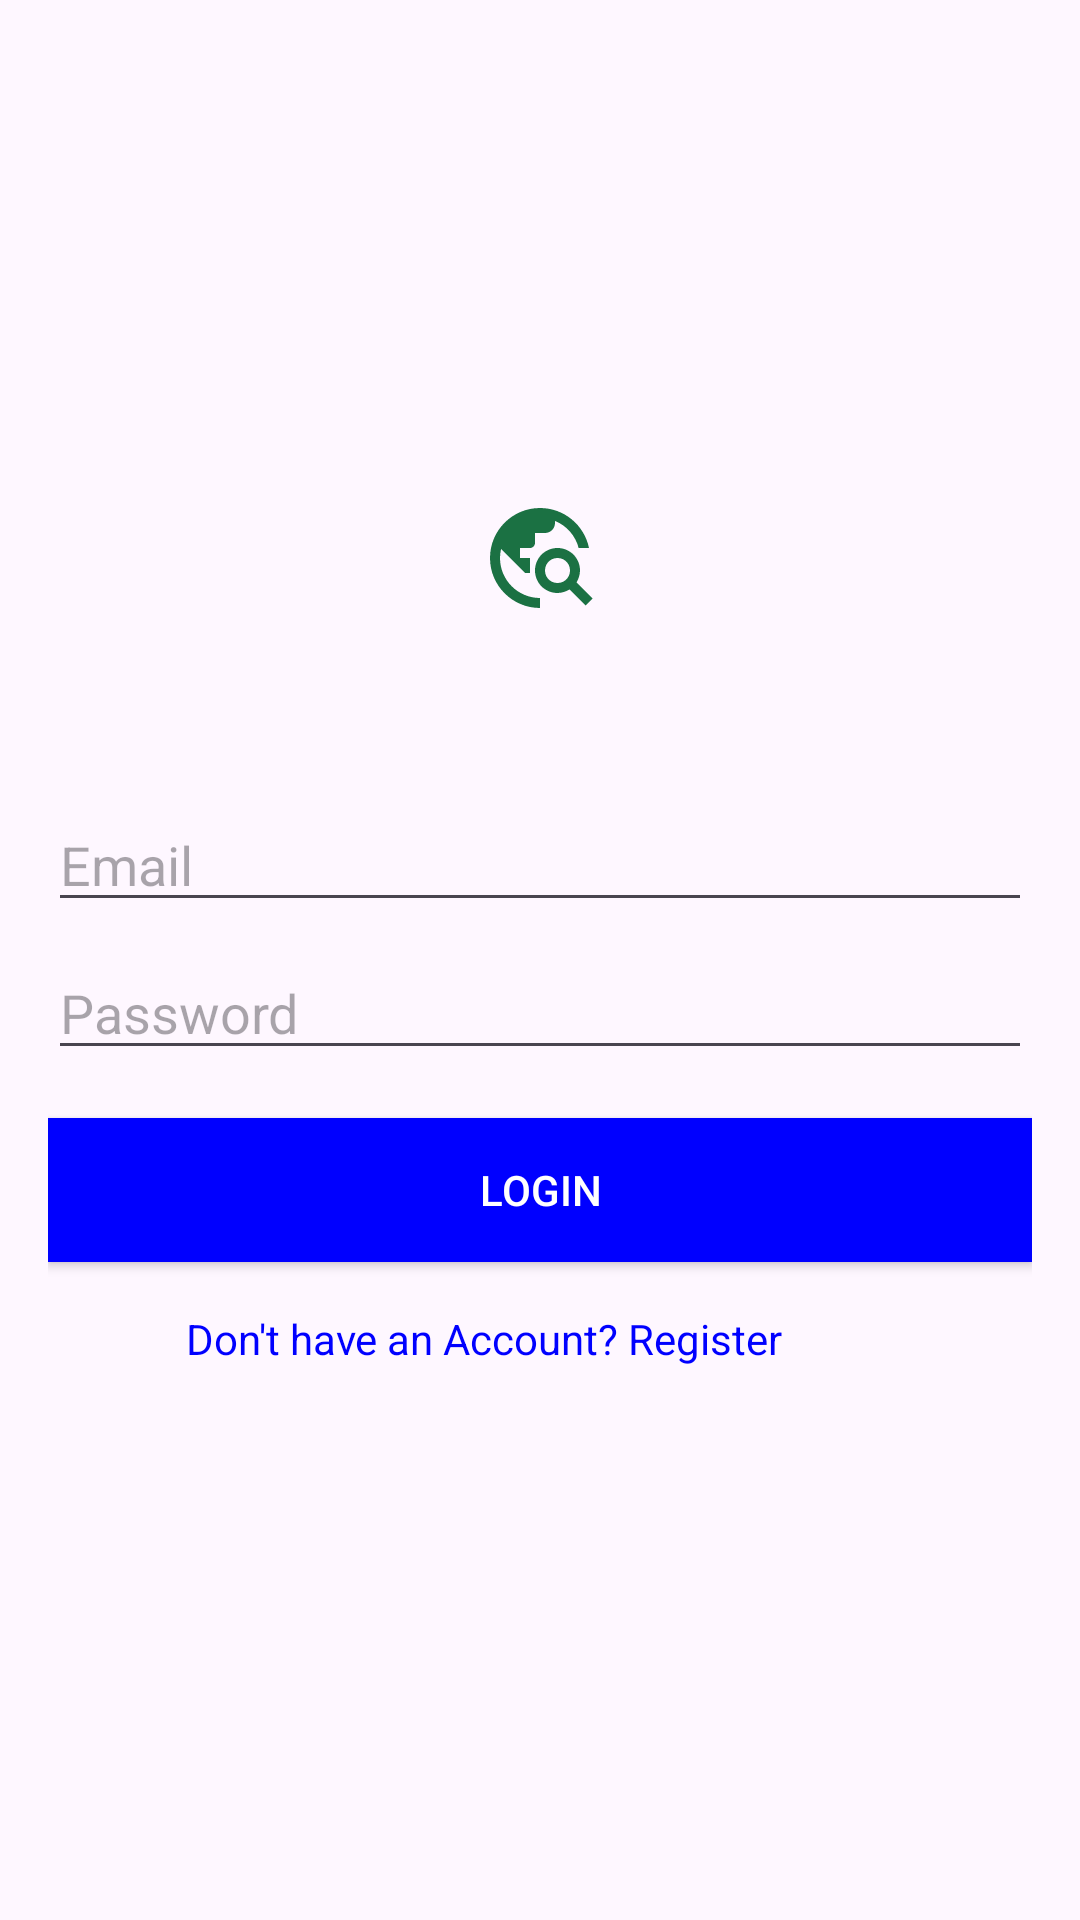

Locate icon controls on the screen. Image size 1080×1920, boxes as bbox=[x1, y1, x2, y2].
Your Travel Companion: bbox=[490, 508, 593, 608]
